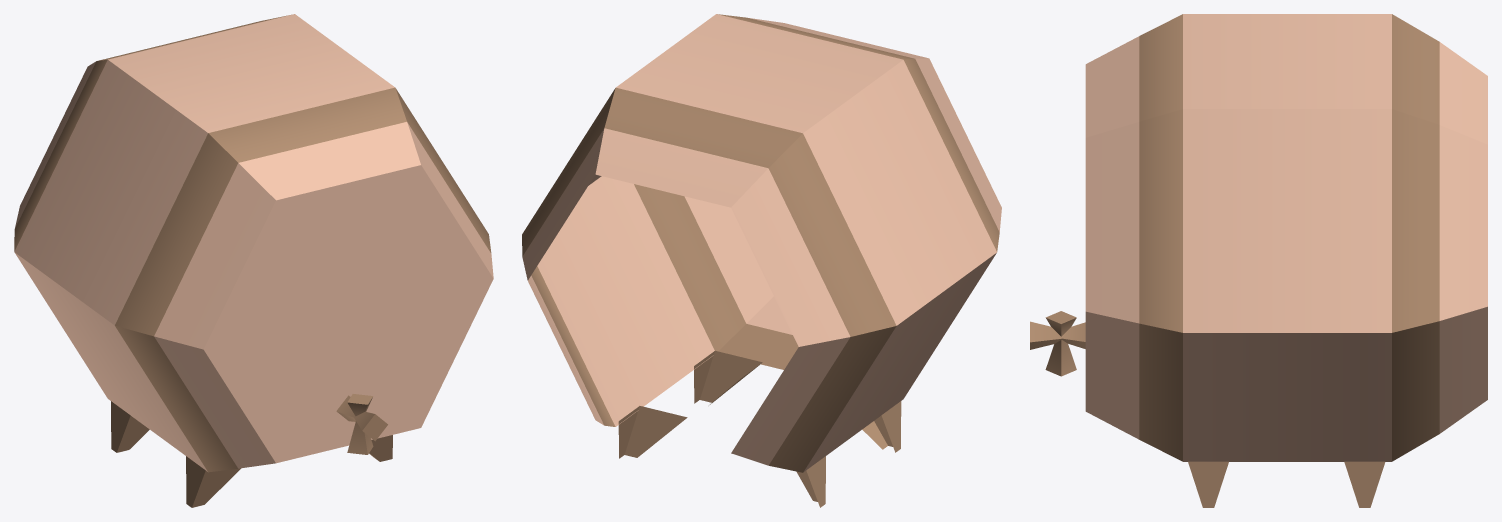
File: Barrel.fbx
3 views of the same model, side by side, from view 1: azimuth 30°, elevation 25°; view 2: azimuth 150°, elevation 25°; view 3: azimuth 270°, elevation 25° (orthographic). The views are drawn at different scales.
Visible parts, largest first — view 1: polySurface1; view 2: polySurface1; view 3: polySurface1.
Boxes of the visible parts, x1,y1,x2,y2 form: polySurface1: [14, 14, 493, 507]; polySurface1: [522, 14, 1001, 507]; polySurface1: [1030, 14, 1487, 507].
Size of the model in its own units: 10.42 by 10.11 by 10.6.
